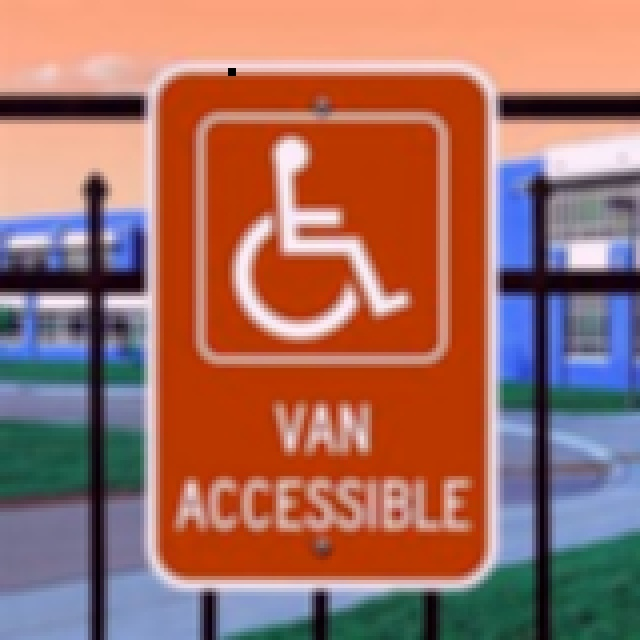ISA: (231, 136, 408, 341)
